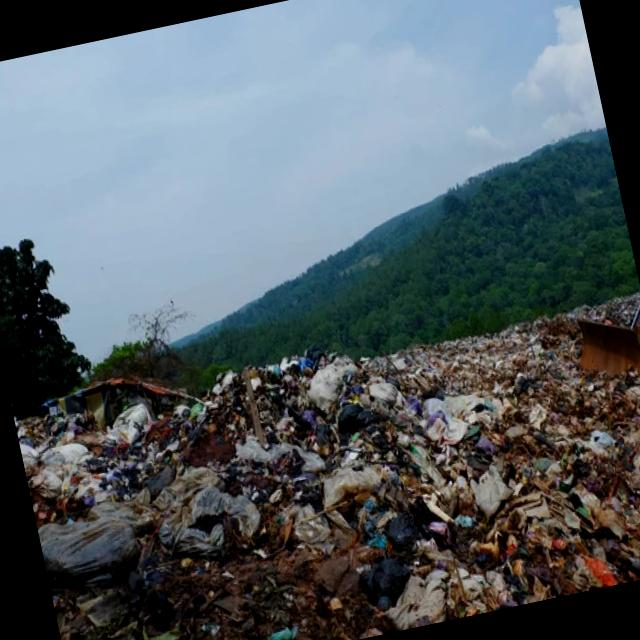garbage: (24, 275, 640, 640)
